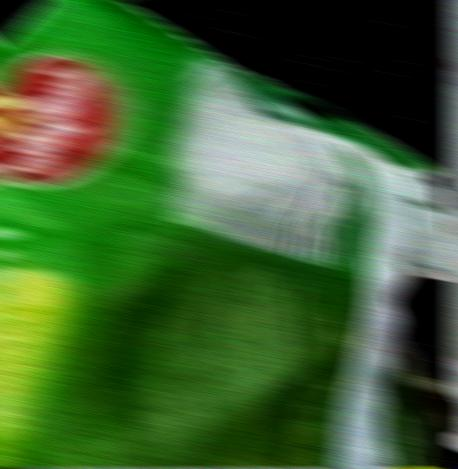colgate: (456, 468, 458, 469)
loaded: (448, 0, 458, 458)
pancit canton calamansi: (0, 0, 458, 468)
